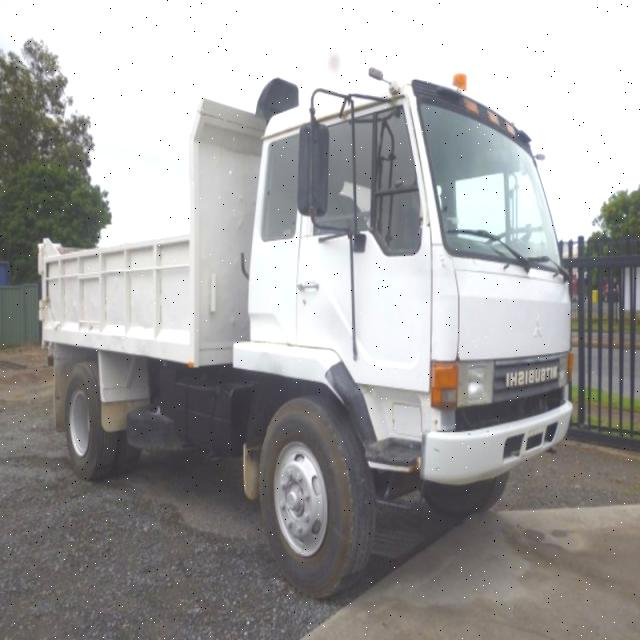truck: (34, 77, 576, 583)
